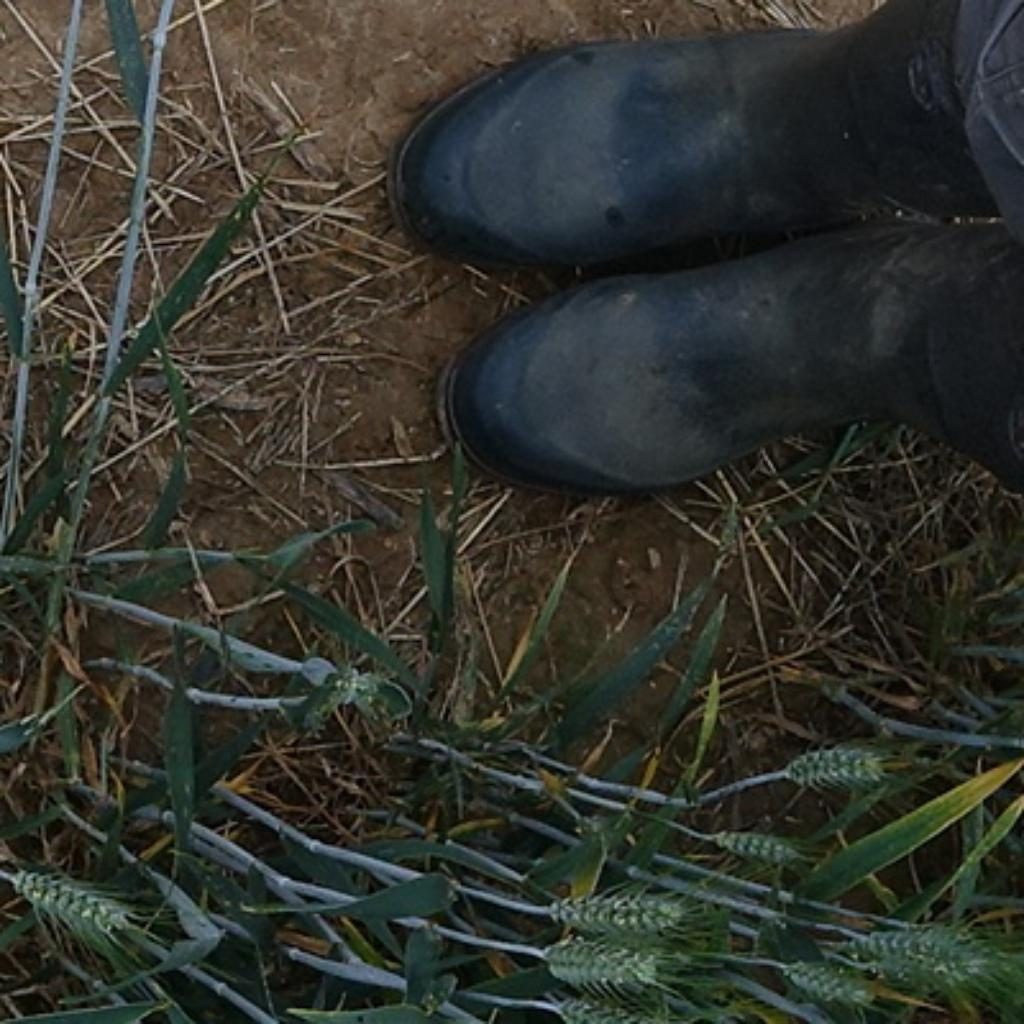0-0: (301, 650, 411, 747), (10, 861, 138, 942), (542, 878, 709, 939), (527, 931, 665, 998), (915, 904, 1017, 975), (773, 740, 893, 797), (848, 930, 974, 981), (701, 816, 814, 870), (775, 954, 875, 1006), (553, 996, 665, 1023)
